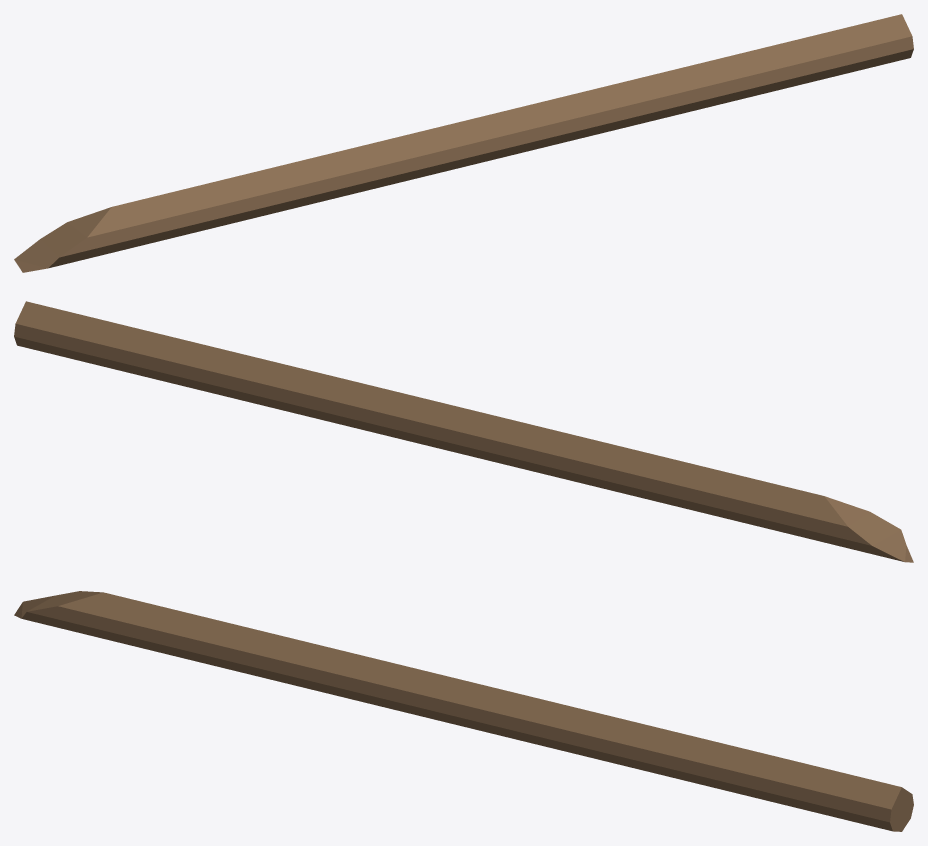
The model's file is Plank.fbx.
3 views of the same model, one above another, from view 1: azimuth 30°, elevation 25°; view 2: azimuth 150°, elevation 25°; view 3: azimuth 330°, elevation 25° (orthographic).
Parts seen in each view (by area): view 1: Plank; view 2: Plank; view 3: Plank.
Boxes of the visible parts, <box> form: Plank: <box>14,14,913,272</box>; Plank: <box>14,301,913,562</box>; Plank: <box>14,591,913,831</box>.
Bounding box in the file's own units: 1178 × 56.77 × 55.19.
1 material, 1 textured.
